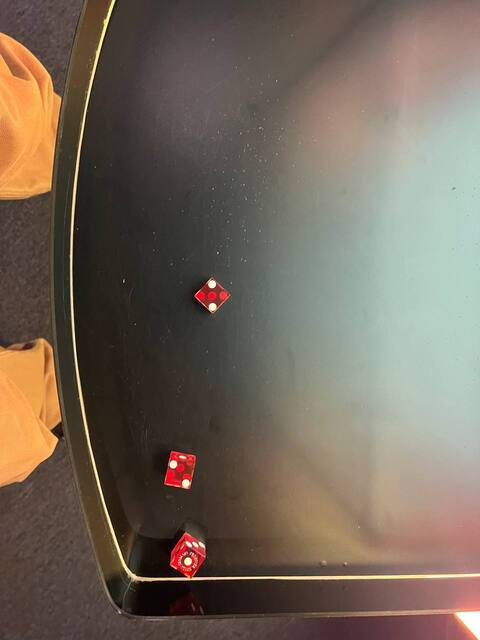one: (176, 543, 216, 580)
two: (192, 275, 233, 316), (161, 456, 198, 490)
